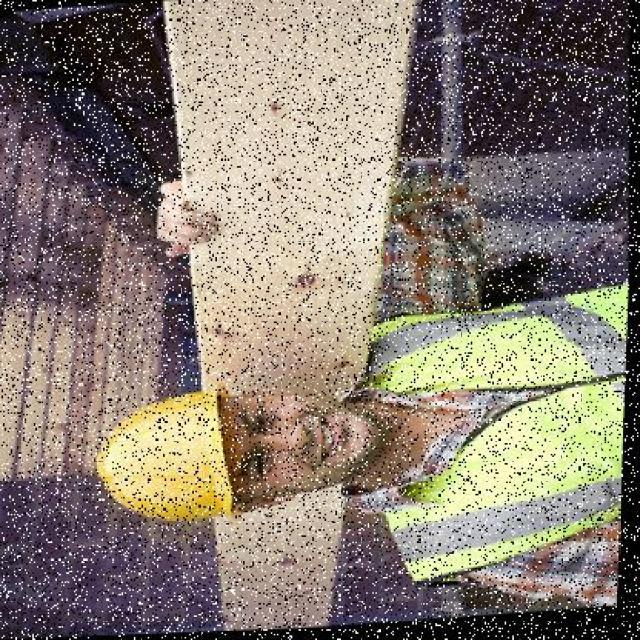helmet: (94, 385, 256, 536)
vest: (358, 262, 630, 588)
